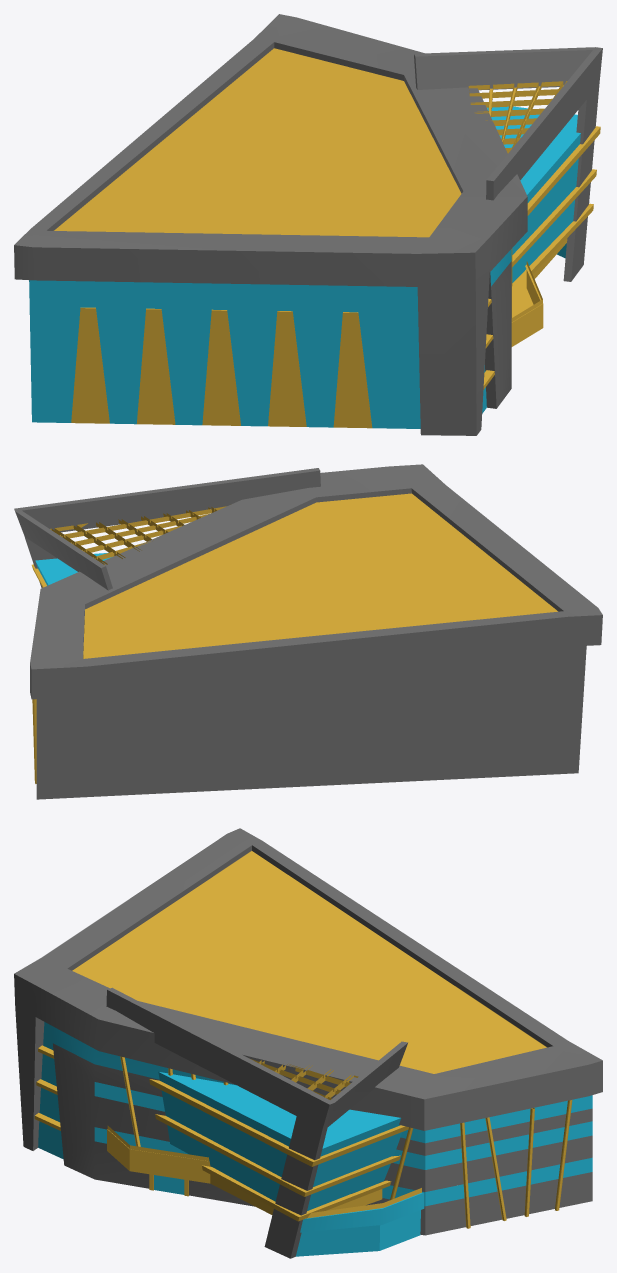
Rendered from building9.fbx.
The picture shows the model from 3 angles, top to bottom: view 1: azimuth 30°, elevation 25°; view 2: azimuth 150°, elevation 25°; view 3: azimuth 270°, elevation 25°; orthographic projection. The views are drawn at different scales.
Parts seen in each view (by area): view 1: building_parts, concrete, glass; view 2: concrete, building_parts, glass; view 3: concrete, building_parts, glass.
Boxes of the visible parts, bbox=[...] form: building_parts: bbox=[54, 48, 600, 428]; concrete: bbox=[14, 14, 602, 435]; glass: bbox=[29, 106, 580, 428]; concrete: bbox=[14, 464, 602, 799]; building_parts: bbox=[31, 493, 557, 783]; glass: bbox=[35, 552, 111, 585]; concrete: bbox=[14, 828, 602, 1258]; building_parts: bbox=[34, 851, 572, 1228]; glass: bbox=[38, 1022, 592, 1256].
Size of the model in its own units: 6202 by 1911 by 5496.
